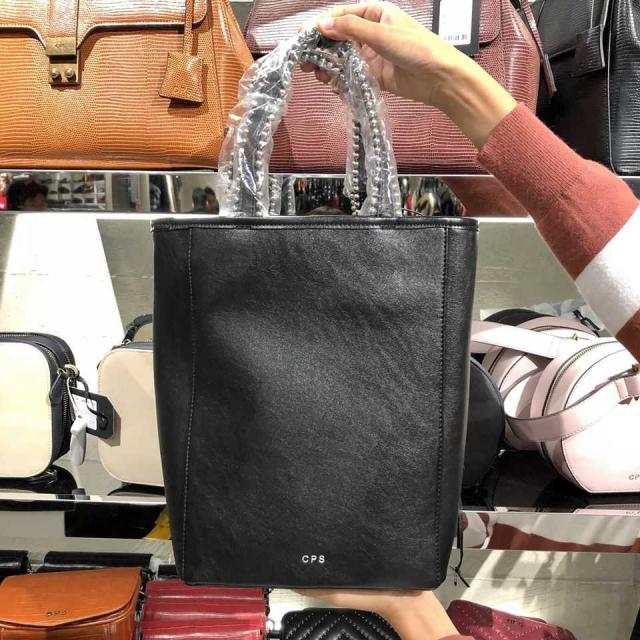Handbag: (140, 202, 481, 594)
